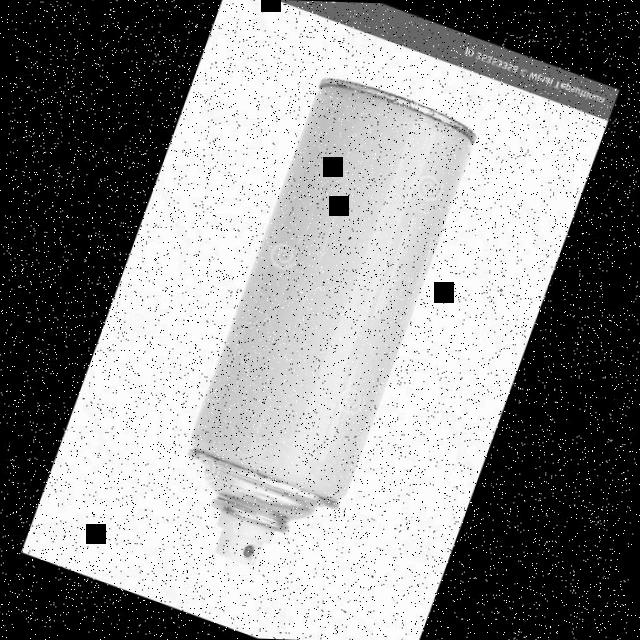chemical_spray_can: (127, 36, 517, 616)
